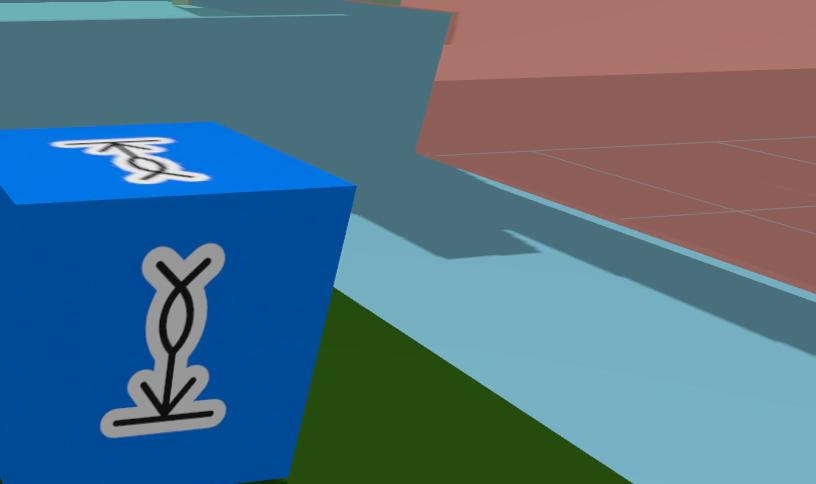KFS_REAL: (0, 122, 354, 484), (102, 245, 224, 437), (52, 138, 209, 183)
